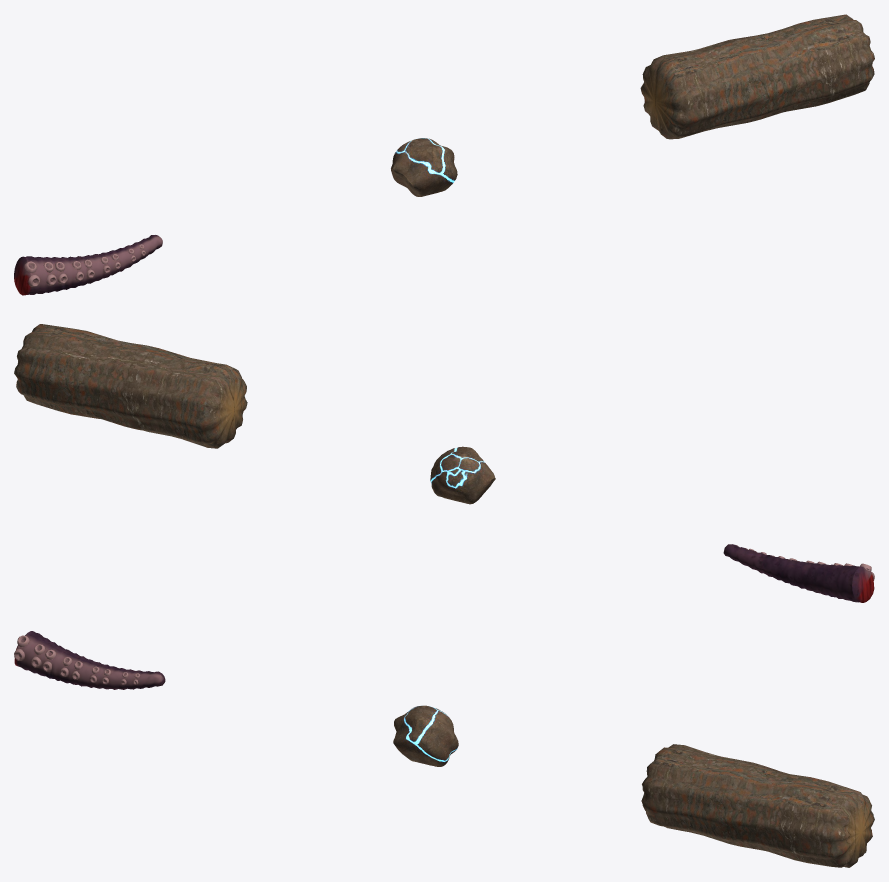
Rendered from pickups_hq.glb.
The picture shows the model from 3 angles, top to bottom: view 1: azimuth 30°, elevation 25°; view 2: azimuth 150°, elevation 25°; view 3: azimuth 330°, elevation 25°; orthographic projection.
Parts seen in each view (by area): view 1: log, meat, core; view 2: log, meat, core; view 3: log, meat, core.
Part boxes in pixels (x1,y1,x2,y2): log: (640, 14, 874, 139); meat: (14, 235, 162, 295); core: (391, 138, 457, 196); log: (14, 324, 247, 448); meat: (723, 544, 874, 602); core: (430, 446, 495, 504); log: (641, 744, 874, 867); meat: (14, 631, 165, 689); core: (393, 705, 458, 766).
Bounding box in the file's own units: 2.51 × 0.2271 × 0.2217.
1 material, 1 textured.
